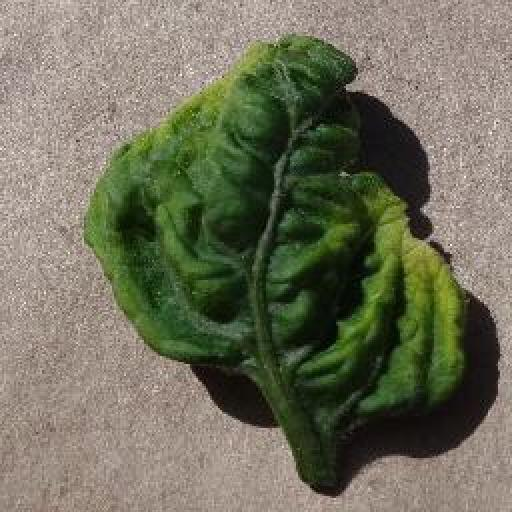disease_tomato: (88, 33, 471, 456)
